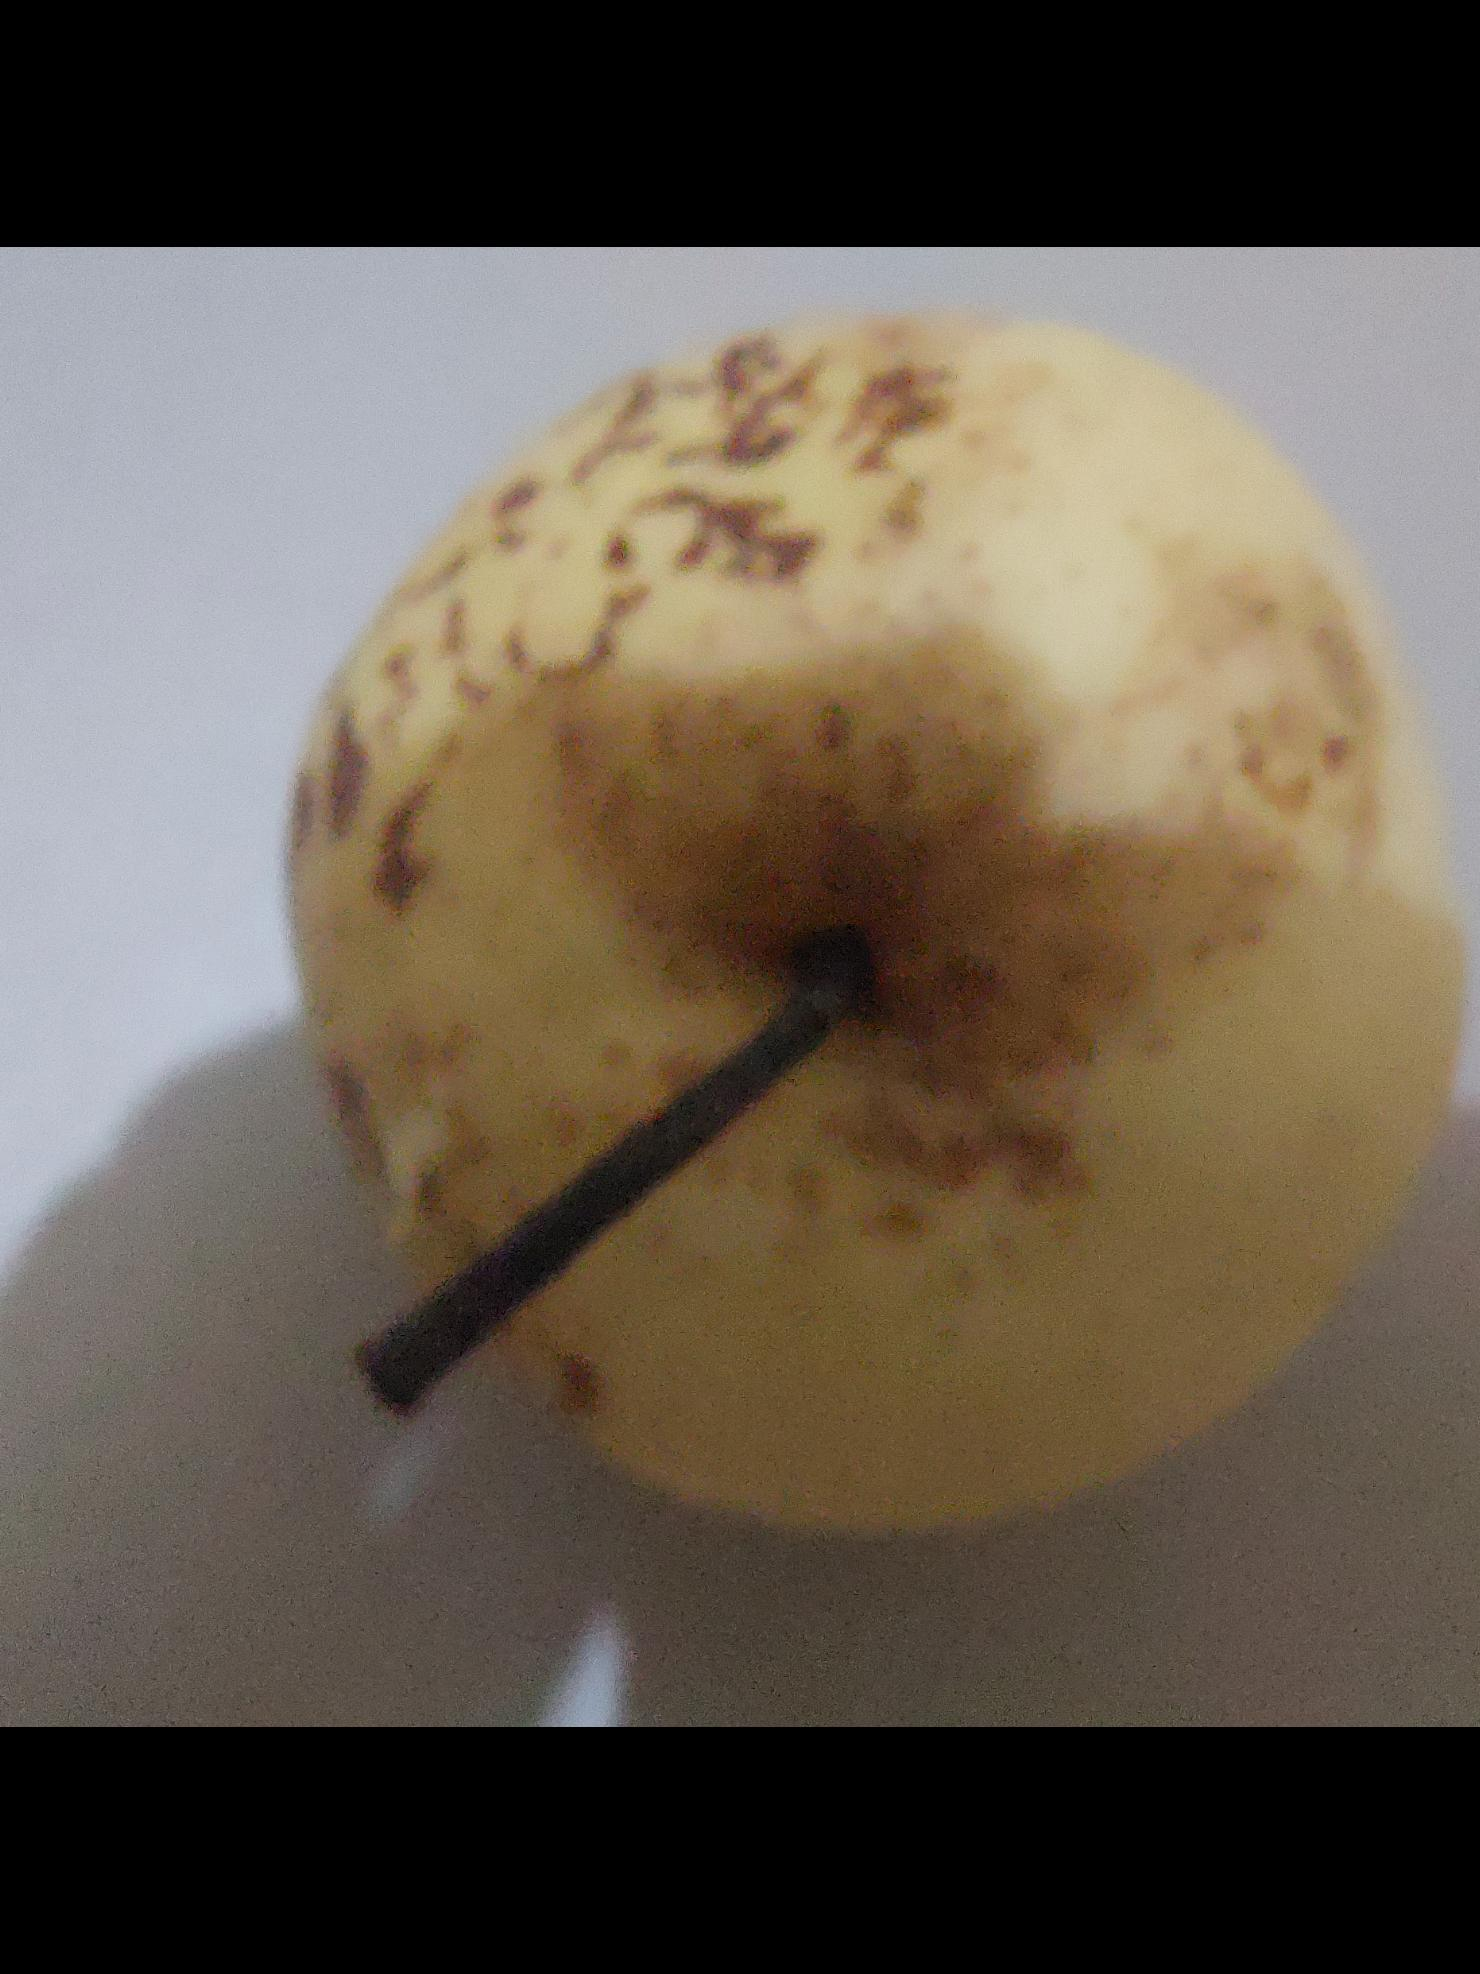Bad Pear: (191, 306, 1480, 1612)
